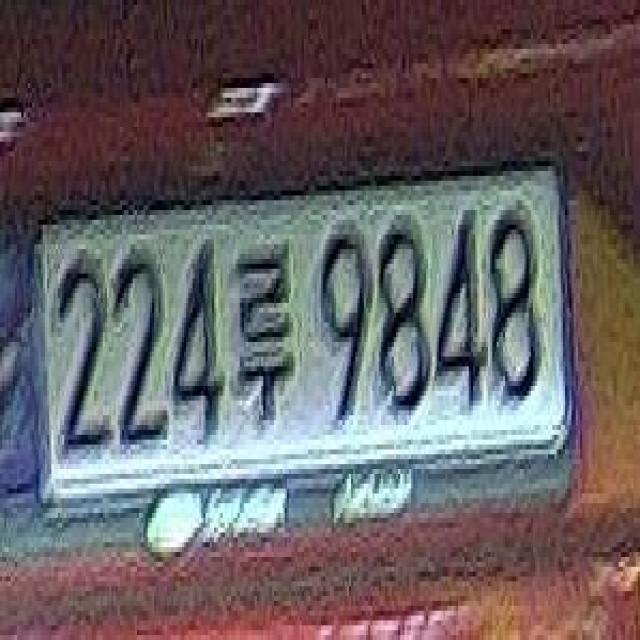illegal_plate: (6, 164, 576, 547)
